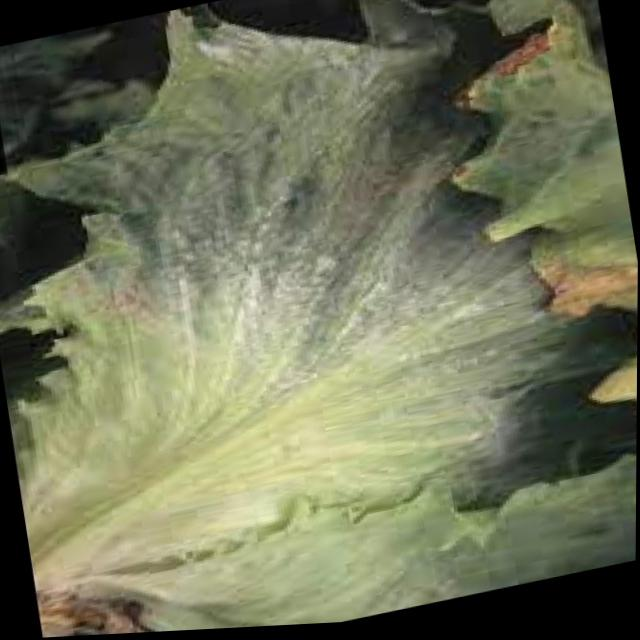Bad: (0, 0, 637, 632)
